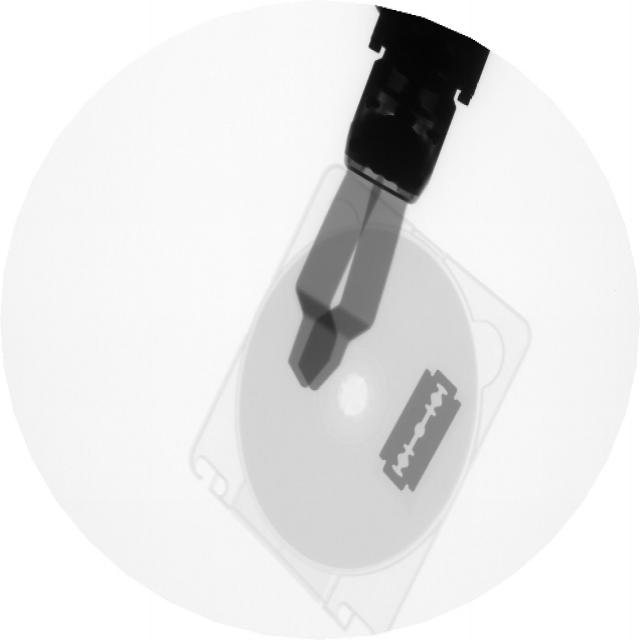BLADE: (377, 360, 470, 501)
